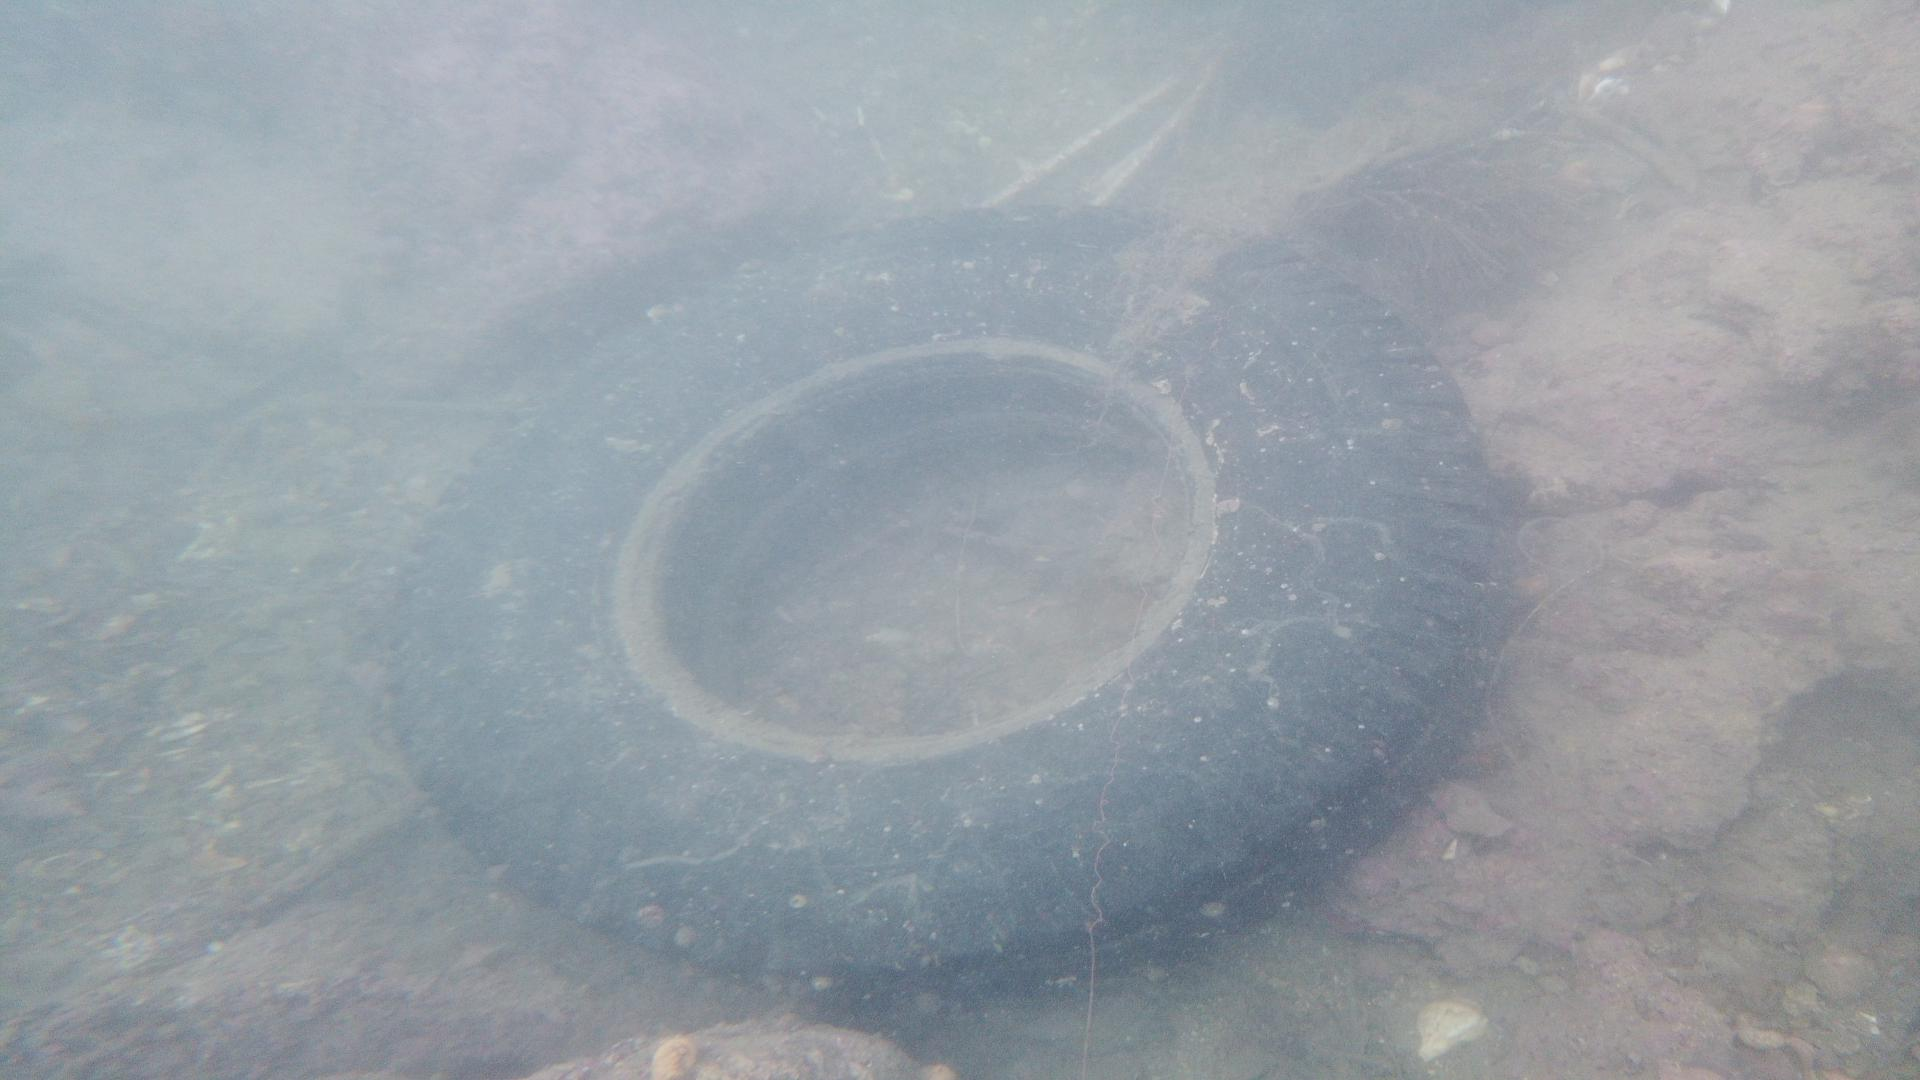tire: (386, 206, 1499, 1029)
